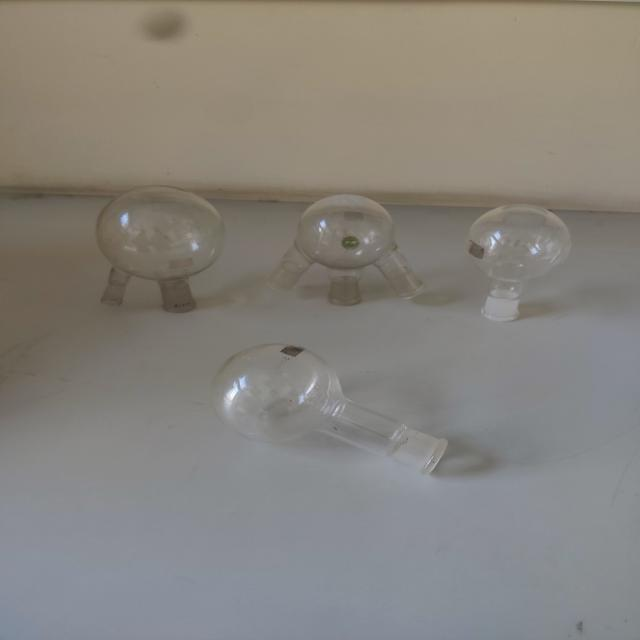Round_Bottom_Flask_Borosilicate_Glass_1_Neck: (197, 325, 468, 496), (452, 180, 586, 336)
Round_Bottom_Flask_Borosilicate_Glass_2_Neck: (69, 163, 241, 325)
Round_Bottom_Flask_Borosilicate_Glass_3_Neck: (261, 173, 438, 324)
